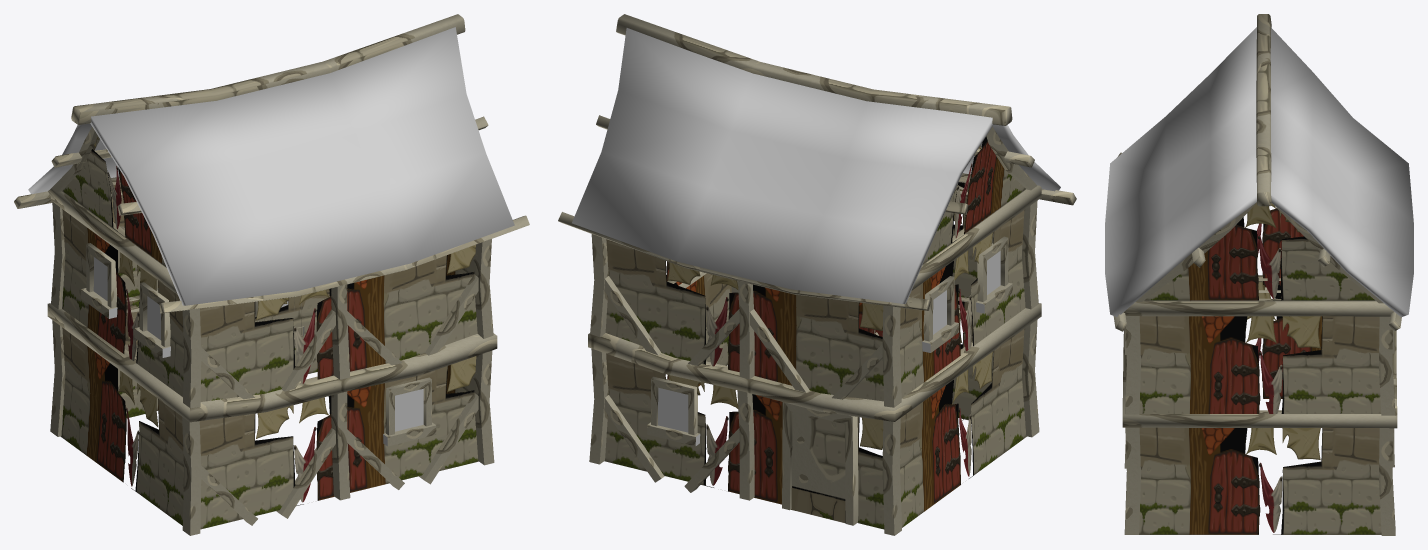
File: Farm_tall.FBX
3 views of the same model, side by side, from view 1: azimuth 30°, elevation 25°; view 2: azimuth 150°, elevation 25°; view 3: azimuth 270°, elevation 25° (orthographic). The views are drawn at different scales.
Parts seen in each view (by area): view 1: Farm_tall; view 2: Farm_tall; view 3: Farm_tall.
Part boxes in pixels (x1,y1,x2,y2): Farm_tall: (14,14,529,535); Farm_tall: (558,14,1076,535); Farm_tall: (1105,14,1413,535).
Size of the model in its own units: 7.87 by 7.64 by 5.77.
